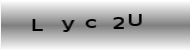2: (112, 16, 126, 30)
L: (32, 18, 43, 32)
U: (128, 13, 142, 27)
c: (84, 17, 98, 28)
y: (61, 19, 75, 33)
